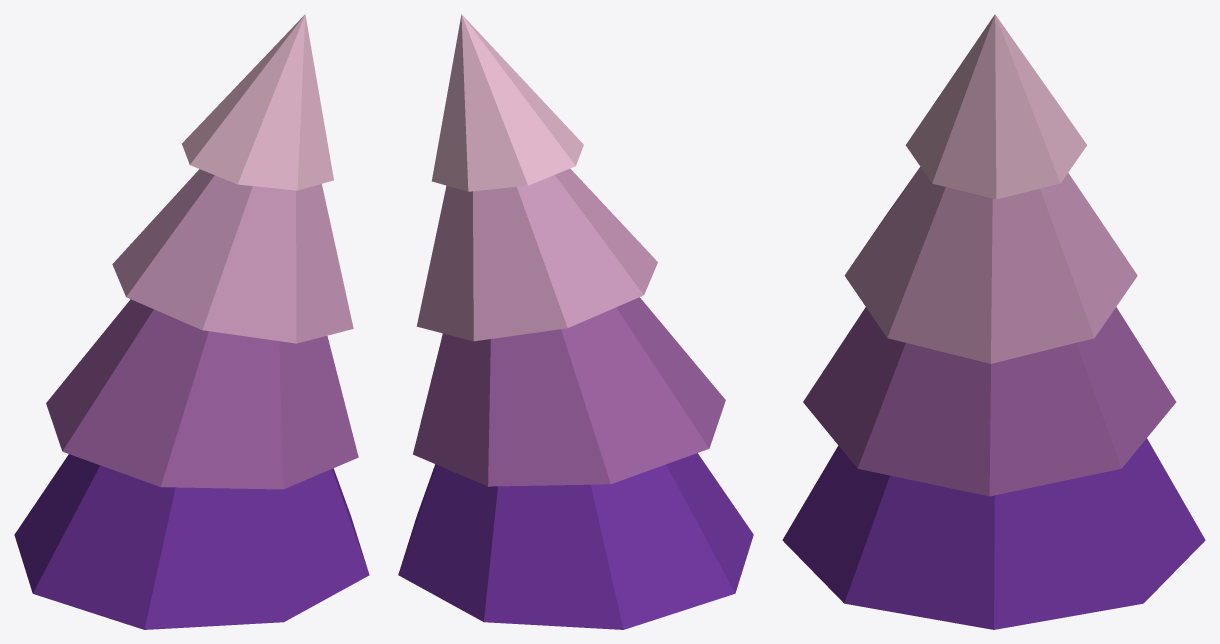
File: 01_02Tree_Purple.fbx
3 views of the same model, side by side, from view 1: azimuth 30°, elevation 25°; view 2: azimuth 150°, elevation 25°; view 3: azimuth 270°, elevation 25° (orthographic). The views are drawn at different scales.
Parts seen in each view (by area): view 1: Cone.001; view 2: Cone.001; view 3: Cone.001.
Part boxes in pixels (x1=…): Cone.001: x1=14, y1=14, x2=369, y2=629; Cone.001: x1=398, y1=14, x2=753, y2=629; Cone.001: x1=782, y1=14, x2=1205, y2=629.
Bounding box in the file's own units: 125 × 192 × 125.
